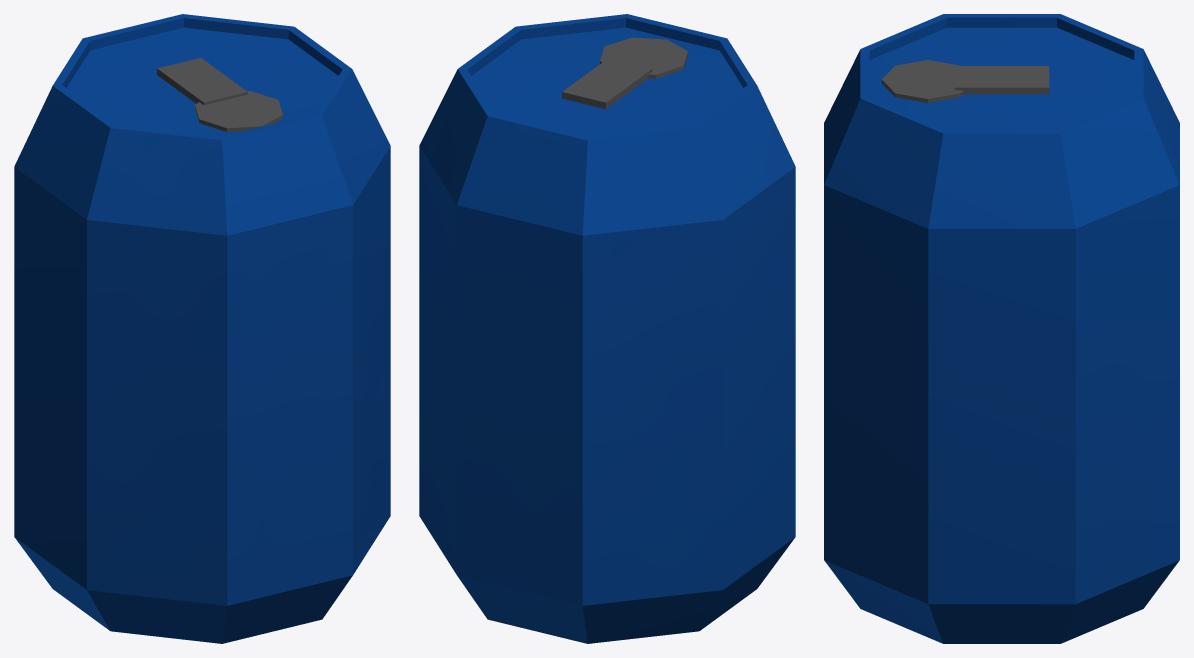
Rendered from Bottle_blue_1.fbx.
3 views of the same model, side by side, from view 1: azimuth 30°, elevation 25°; view 2: azimuth 150°, elevation 25°; view 3: azimuth 270°, elevation 25° (orthographic).
Parts seen in each view (by area): view 1: Bottle_blue; view 2: Bottle_blue; view 3: Bottle_blue.
Boxes of the visible parts, left/top/right/bottom form: Bottle_blue: left=14, top=14, right=390, bottom=643; Bottle_blue: left=419, top=14, right=795, bottom=643; Bottle_blue: left=824, top=14, right=1179, bottom=643.
Size of the model in its own units: 5.15 by 8.15 by 5.15.
